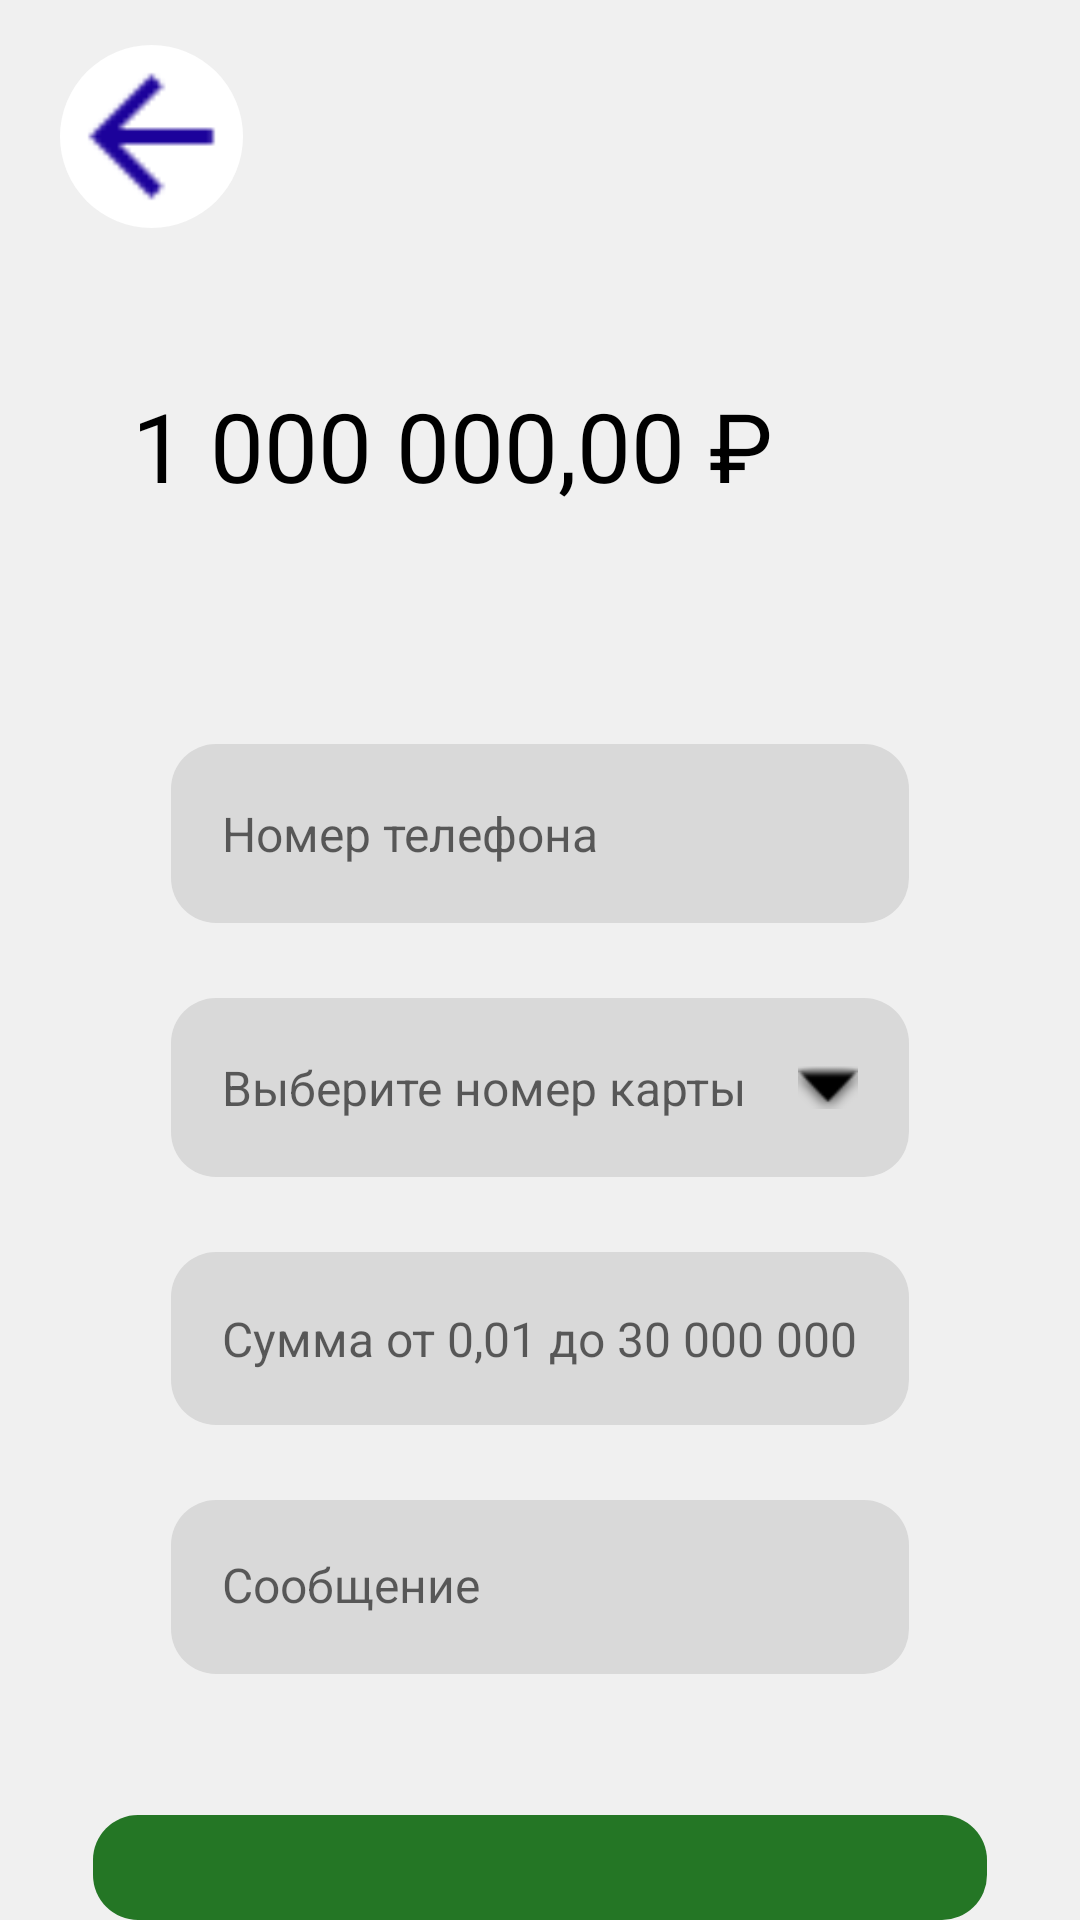

Icons on this 1080*1920 Android screen, each with the point to tap as (x=x, y=y):
arrow down float: (x=828, y=1087)
back: (x=151, y=136)
